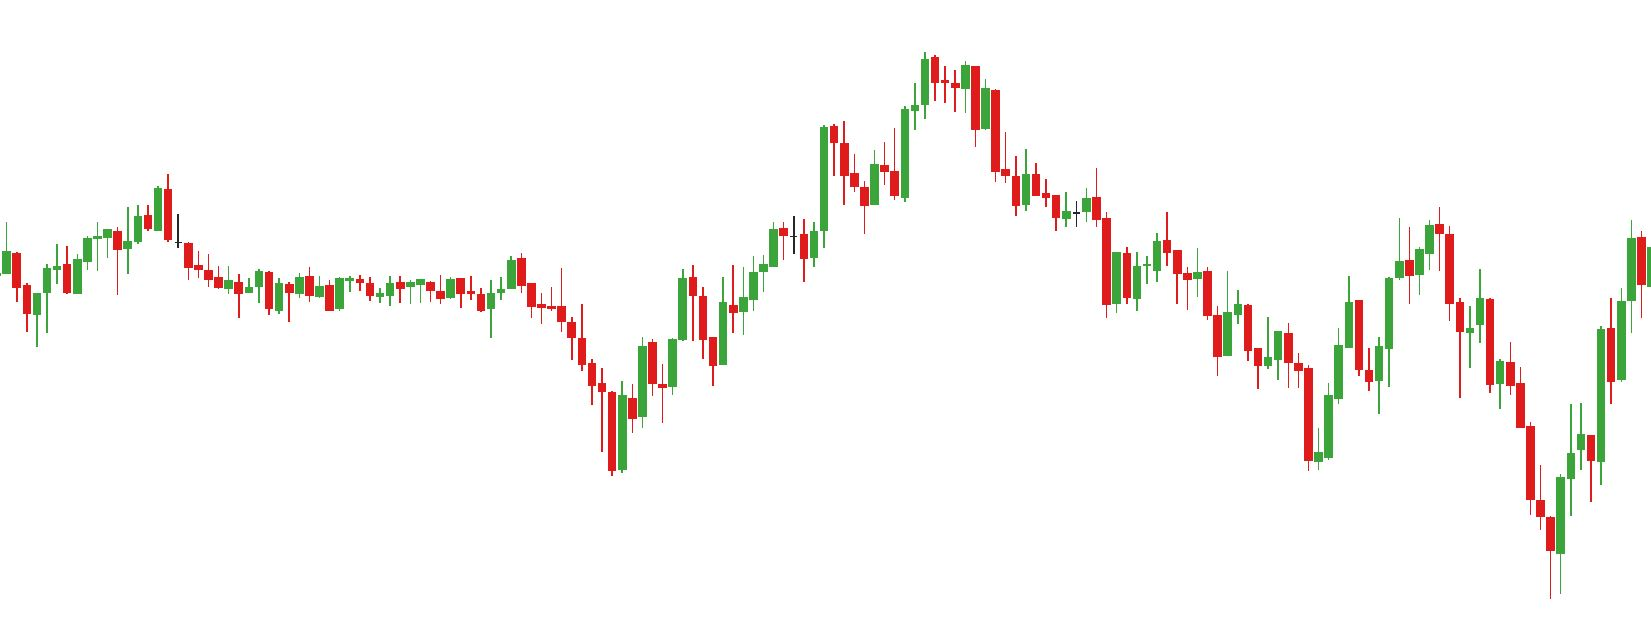sell: (1161, 213, 1414, 357)
